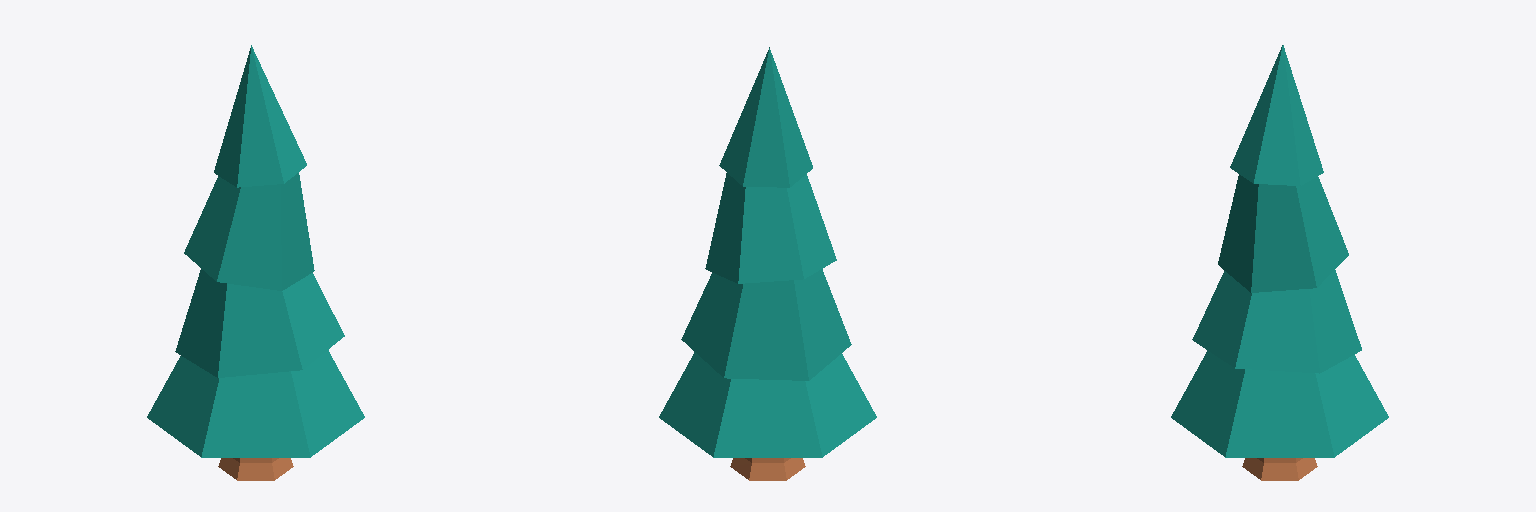
3 renders of one model, left to right at view 1: azimuth 30°, elevation 25°; view 2: azimuth 150°, elevation 25°; view 3: azimuth 270°, elevation 25°, orthographic.
Parts seen in each view (by area): view 1: treePine; view 2: treePine; view 3: treePine.
Part boxes in pixels (x1,y1,x2,y2): treePine: (147, 45, 364, 480); treePine: (659, 47, 876, 480); treePine: (1171, 45, 1388, 480).
Size of the model in its own units: 0.4073 by 1 by 0.4703.